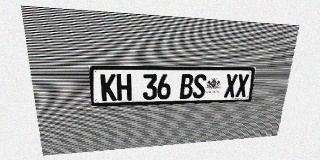3: (143, 74, 157, 100)
6: (157, 74, 171, 99)
B: (179, 74, 194, 99)
H: (116, 74, 132, 101)
K: (100, 74, 117, 101)
S: (192, 74, 207, 98)
X: (224, 74, 238, 97), (235, 74, 249, 97)
